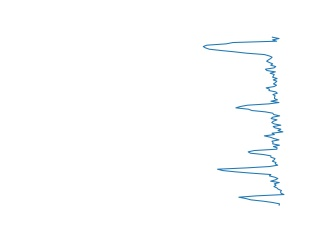distalBar: (200, 33, 282, 87)
interdistributaryEstuary: (231, 87, 287, 146)
underwaterNaturalLevee: (215, 148, 288, 208)
